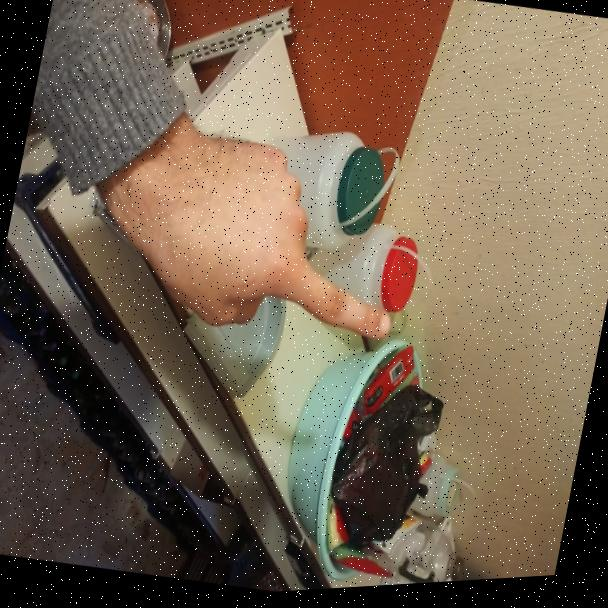one: (119, 107, 430, 381)
